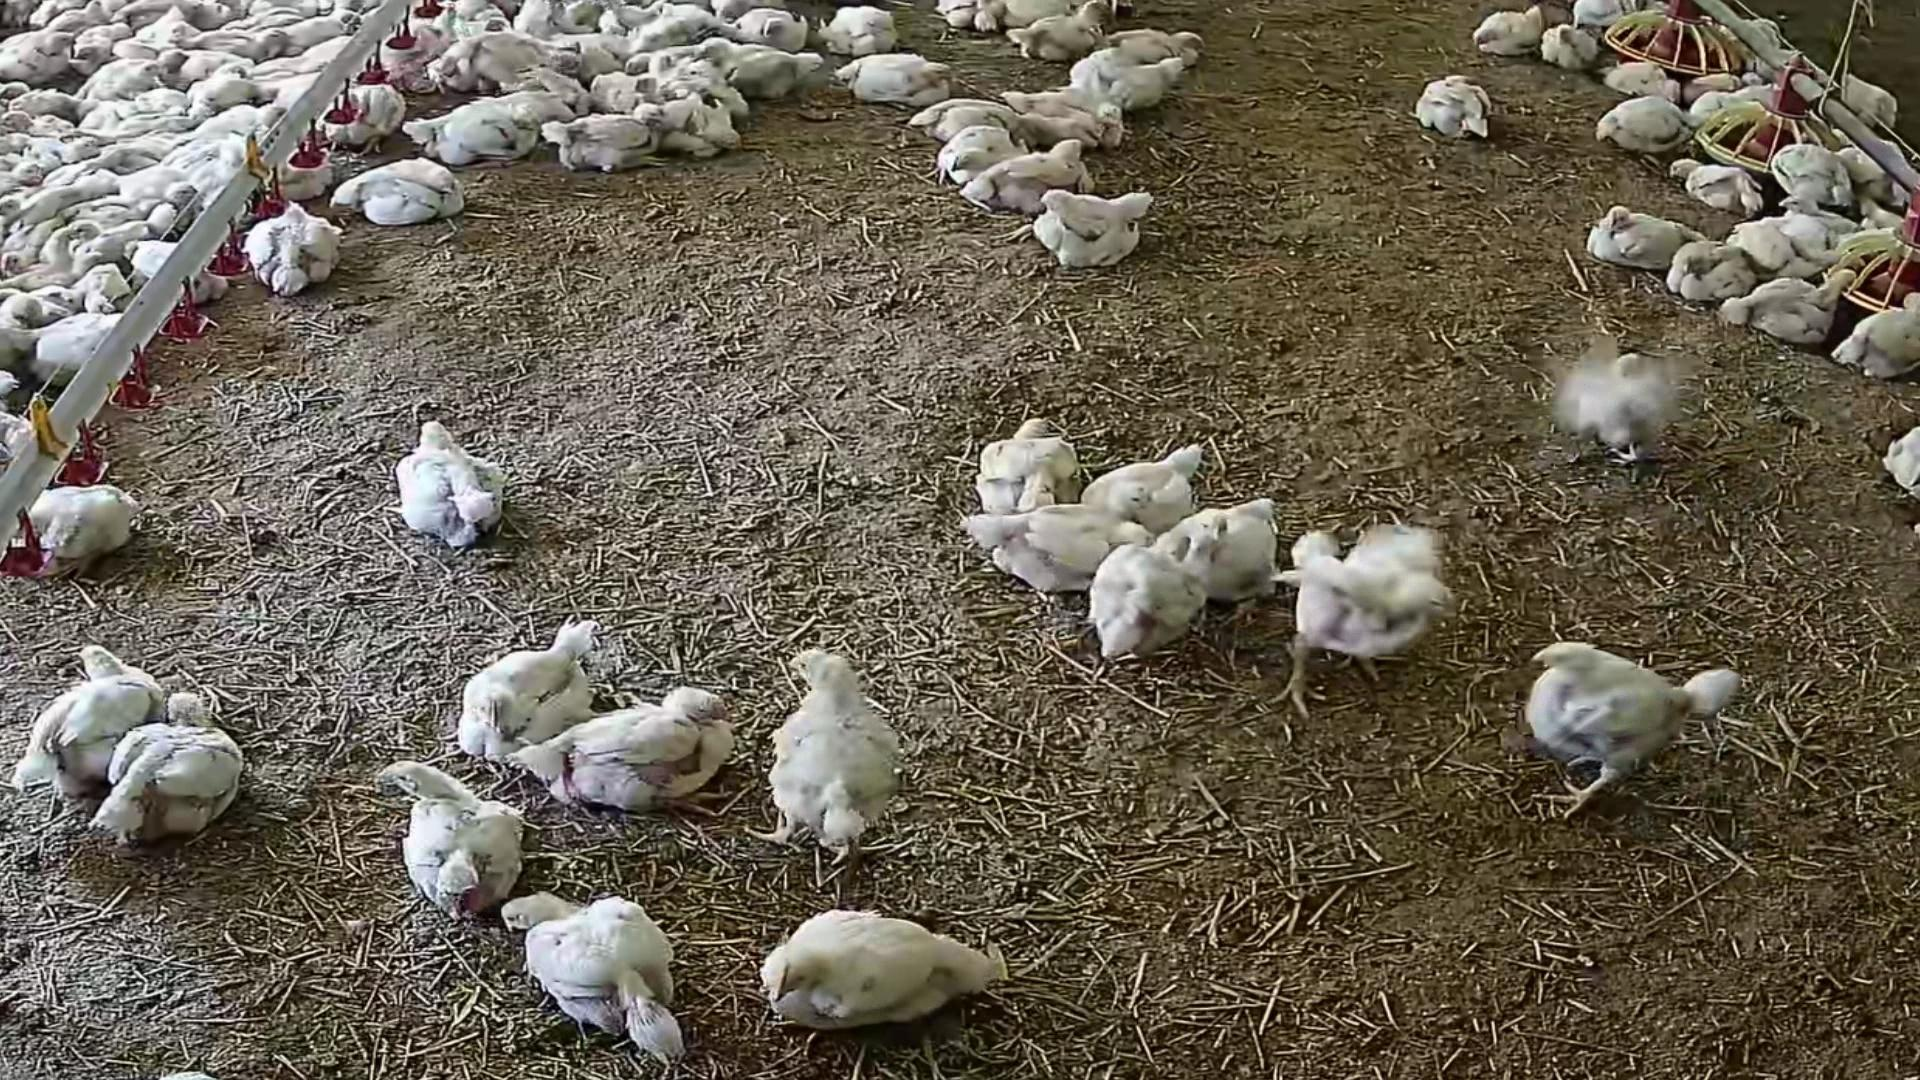poussin: (1527, 618, 1745, 857), (738, 869, 1013, 1055), (496, 844, 712, 1075), (757, 640, 931, 884), (343, 736, 539, 910), (377, 375, 529, 597), (1292, 520, 1453, 717), (562, 670, 736, 819), (458, 620, 628, 750), (117, 674, 253, 836), (1561, 347, 1716, 487), (956, 377, 1095, 518), (1121, 505, 1244, 658), (36, 626, 160, 777), (1015, 186, 1189, 289), (984, 484, 1142, 595), (25, 465, 171, 572), (1088, 429, 1212, 527), (1203, 484, 1302, 605), (257, 191, 357, 310), (413, 87, 550, 171), (1581, 185, 1713, 269), (554, 96, 678, 186), (986, 133, 1117, 216), (342, 162, 491, 233), (1742, 266, 1862, 353), (1604, 94, 1717, 178), (696, 37, 837, 103), (430, 22, 563, 82), (840, 54, 971, 113), (1398, 78, 1510, 146), (1718, 218, 1851, 274), (1006, 0, 1130, 61), (1668, 231, 1763, 310), (121, 239, 222, 310), (1014, 80, 1131, 140), (1671, 146, 1759, 220), (1866, 398, 1920, 510), (1840, 293, 1920, 365), (1106, 21, 1211, 76), (5, 26, 91, 94), (1084, 49, 1174, 111), (654, 94, 745, 153), (819, 0, 905, 61), (30, 313, 119, 371), (911, 91, 1013, 141), (1468, 0, 1545, 62), (4, 182, 95, 235), (334, 79, 400, 152), (938, 132, 1015, 193), (1832, 66, 1904, 128), (1774, 190, 1862, 240), (927, 0, 1005, 55), (671, 58, 756, 102), (206, 25, 294, 65), (1614, 55, 1683, 104), (65, 215, 157, 251), (738, 3, 810, 47), (607, 38, 663, 86), (158, 179, 207, 232), (1544, 22, 1594, 73), (7, 108, 74, 137), (61, 0, 120, 32), (100, 63, 160, 94), (7, 248, 47, 284), (7, 164, 50, 190), (199, 90, 235, 117), (165, 22, 195, 42), (162, 46, 190, 67)
